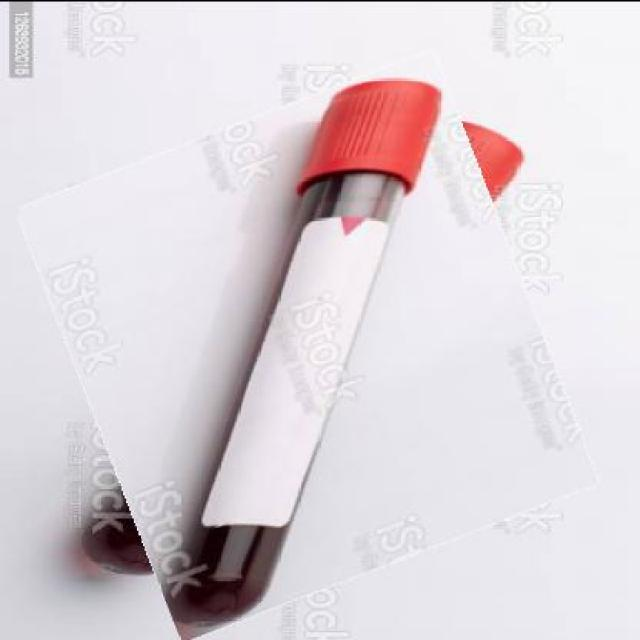Experimental-tube: (51, 80, 566, 609)
